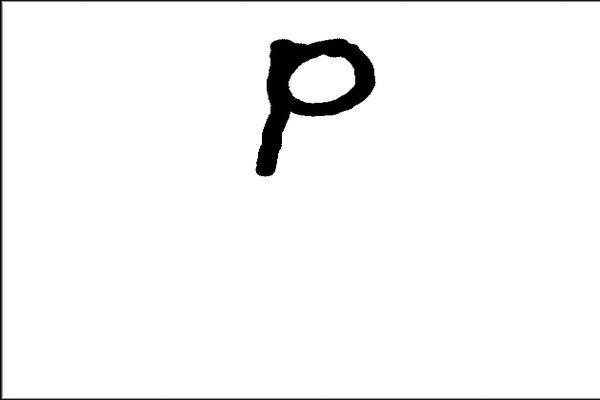P: (237, 24, 379, 193)
